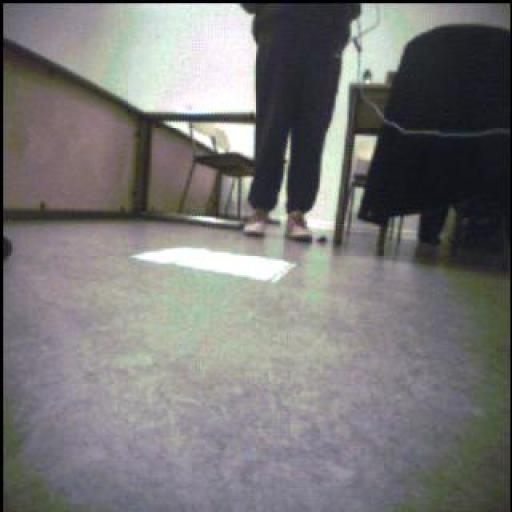Pad: (138, 234, 296, 291)
